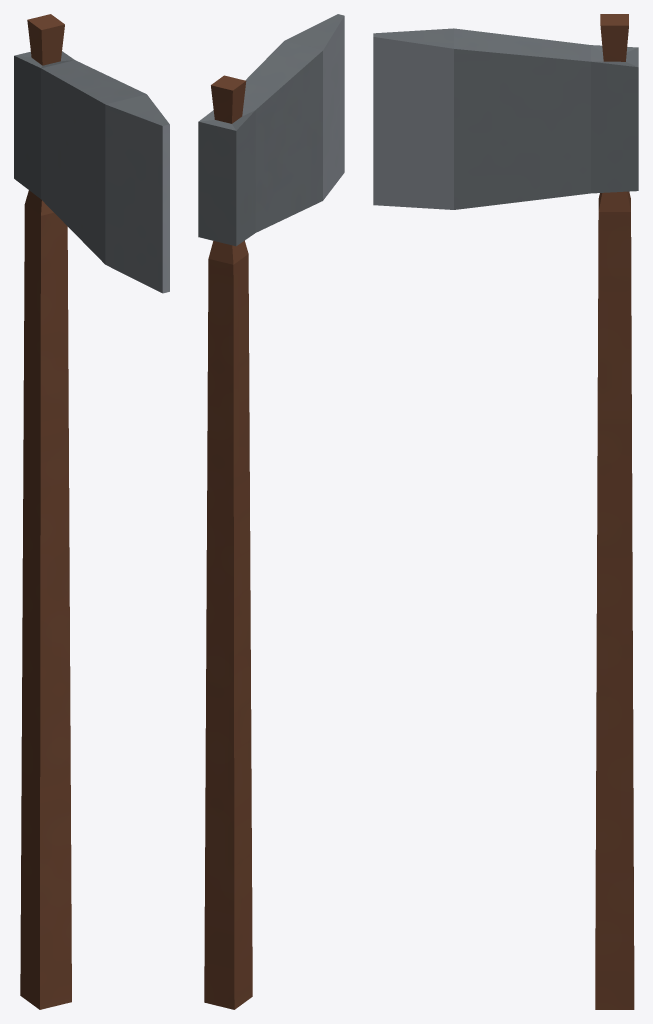
Rendered from Axe.fbx.
3 renders of one model, left to right at view 1: azimuth 30°, elevation 25°; view 2: azimuth 150°, elevation 25°; view 3: azimuth 270°, elevation 25°, orthographic. The views are drawn at different scales.
Parts seen in each view (by area): view 1: Axe; view 2: Axe; view 3: Axe.
Boxes of the visible parts, x1,y1,x2,y2 form: Axe: (14, 14, 169, 1009); Axe: (198, 14, 344, 1009); Axe: (373, 14, 638, 1009).
Size of the model in its own units: 0.0285 by 0.6409 by 0.157.
